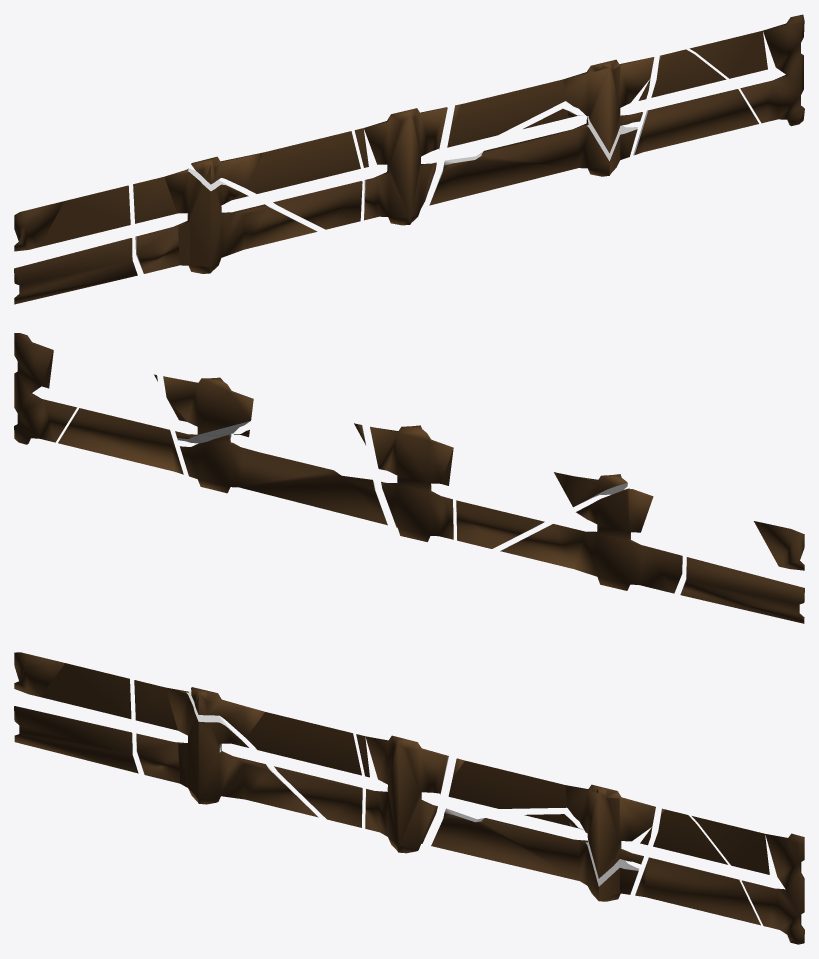
File: Horizontal Fence.glb
3 views of the same model, one above another, from view 1: azimuth 30°, elevation 25°; view 2: azimuth 150°, elevation 25°; view 3: azimuth 330°, elevation 25° (orthographic).
Parts seen in each view (by area): view 1: Root.005, Root.006, Root.001, Root.008, Root.003, Root.002, Root.004, Root, Root.010, Root.009, Root.011; view 2: Root.005, Root.001, Root.008, Root, Root.010, Root.006, Root.003, Root.009, Root.004, Root.002; view 3: Root.005, Root.006, Root.001, Root.008, Root.003, Root.002, Root.004, Root, Root.010, Root.009, Root.011.
Part boxes in pixels (x1=…): Root.005: x1=133, y1=168, x2=317, y2=273; Root.006: x1=447, y1=57, x2=654, y2=152; Root.001: x1=429, y1=116, x2=637, y2=205; Root.008: x1=354, y1=107, x2=447, y2=225; Root.003: x1=689, y1=14, x2=804, y2=126; Root.002: x1=191, y1=131, x2=360, y2=193; Root.004: x1=14, y1=185, x2=130, y2=251; Root: x1=14, y1=238, x2=137, y2=304; Root.010: x1=633, y1=89, x2=758, y2=155; Root.009: x1=273, y1=181, x2=362, y2=229; Root.011: x1=651, y1=49, x2=726, y2=97; Root.005: x1=500, y1=488, x2=682, y2=593; Root.001: x1=180, y1=435, x2=387, y2=525; Root.008: x1=370, y1=425, x2=453, y2=541; Root: x1=680, y1=557, x2=804, y2=623; Root.010: x1=58, y1=408, x2=183, y2=474; Root.006: x1=163, y1=376, x2=366, y2=445; Root.003: x1=14, y1=333, x2=76, y2=444; Root.009: x1=456, y1=500, x2=544, y2=548; Root.004: x1=754, y1=521, x2=804, y2=570; Root.002: x1=554, y1=472, x2=627, y2=507; Root.005: x1=134, y1=680, x2=318, y2=817; Root.006: x1=448, y1=758, x2=655, y2=878; Root.001: x1=431, y1=808, x2=638, y2=901; Root.008: x1=356, y1=734, x2=448, y2=853; Root.003: x1=692, y1=816, x2=804, y2=944; Root.002: x1=191, y1=687, x2=361, y2=775; Root.004: x1=14, y1=652, x2=131, y2=718; Root: x1=14, y1=706, x2=138, y2=773; Root.010: x1=635, y1=857, x2=760, y2=925; Root.009: x1=274, y1=766, x2=362, y2=827; Root.011: x1=653, y1=808, x2=727, y2=864.
Size of the model in its own units: 4.4 by 0.5964 by 0.0727.
